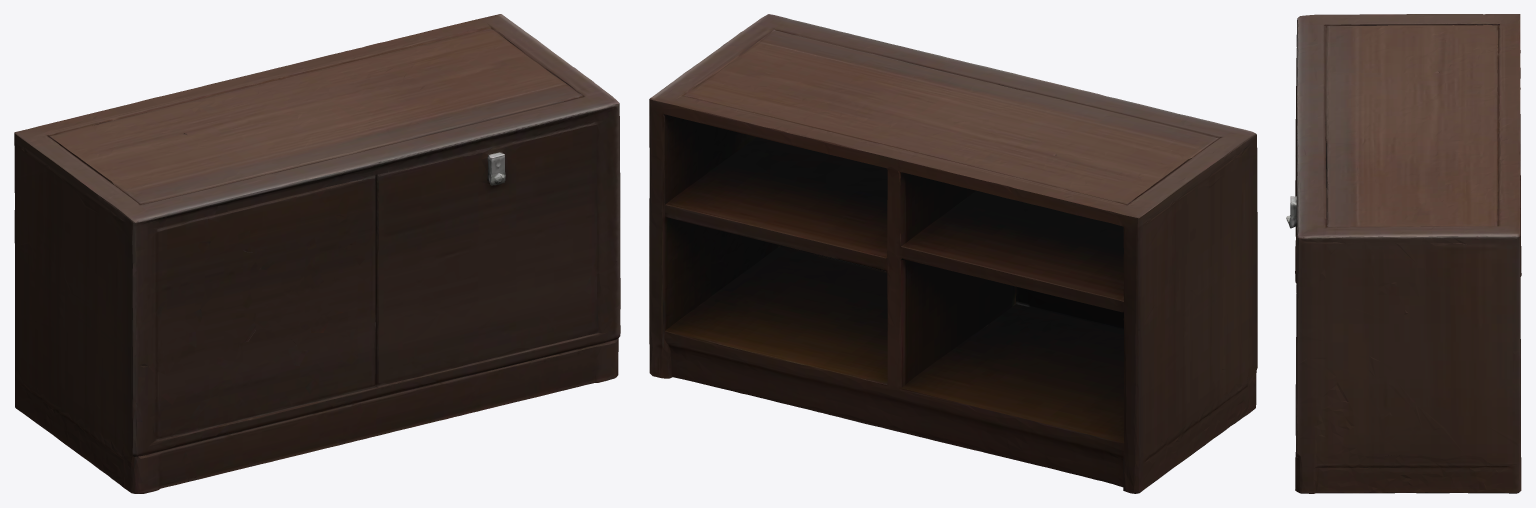
Rendered from ast_314af305efe6.glb.
3 renders of one model, left to right at view 1: azimuth 30°, elevation 25°; view 2: azimuth 150°, elevation 25°; view 3: azimuth 270°, elevation 25°, orthographic. The views are drawn at different scales.
Parts seen in each view (by area): view 1: geometry_0; view 2: geometry_0; view 3: geometry_0.
Boxes of the visible parts, x1=… form: geometry_0: x1=14, y1=14, x2=620, y2=493; geometry_0: x1=649, y1=14, x2=1257, y2=493; geometry_0: x1=1286, y1=14, x2=1521, y2=493.
Bounding box in the file's own units: 1 × 0.5432 × 0.4468.
1 material, 1 textured.
